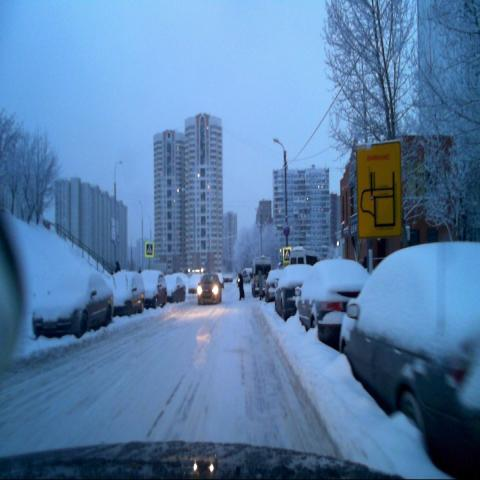5_19_1: (282, 245, 291, 264), (144, 242, 154, 258)
